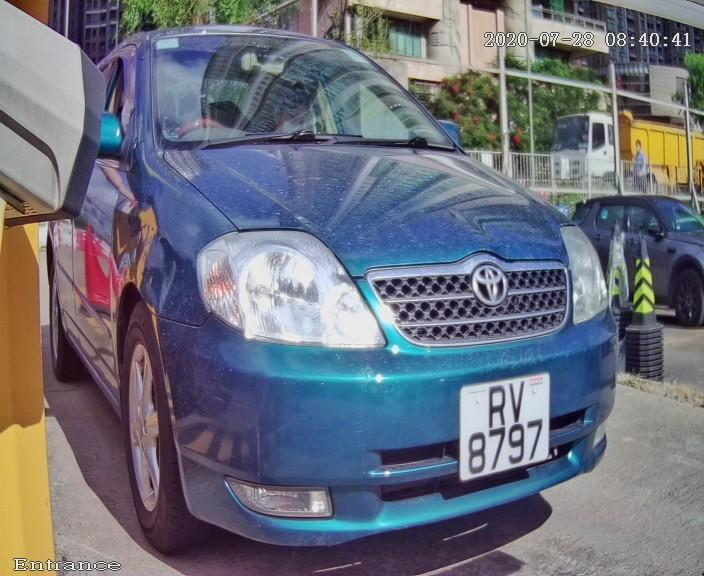privatecar: (16, 1, 695, 576)
